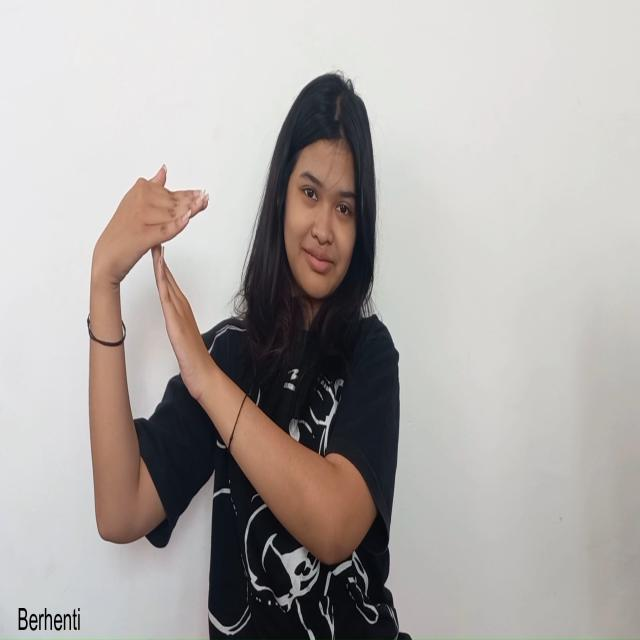Berhenti -BISINDO-: (85, 160, 212, 412)
